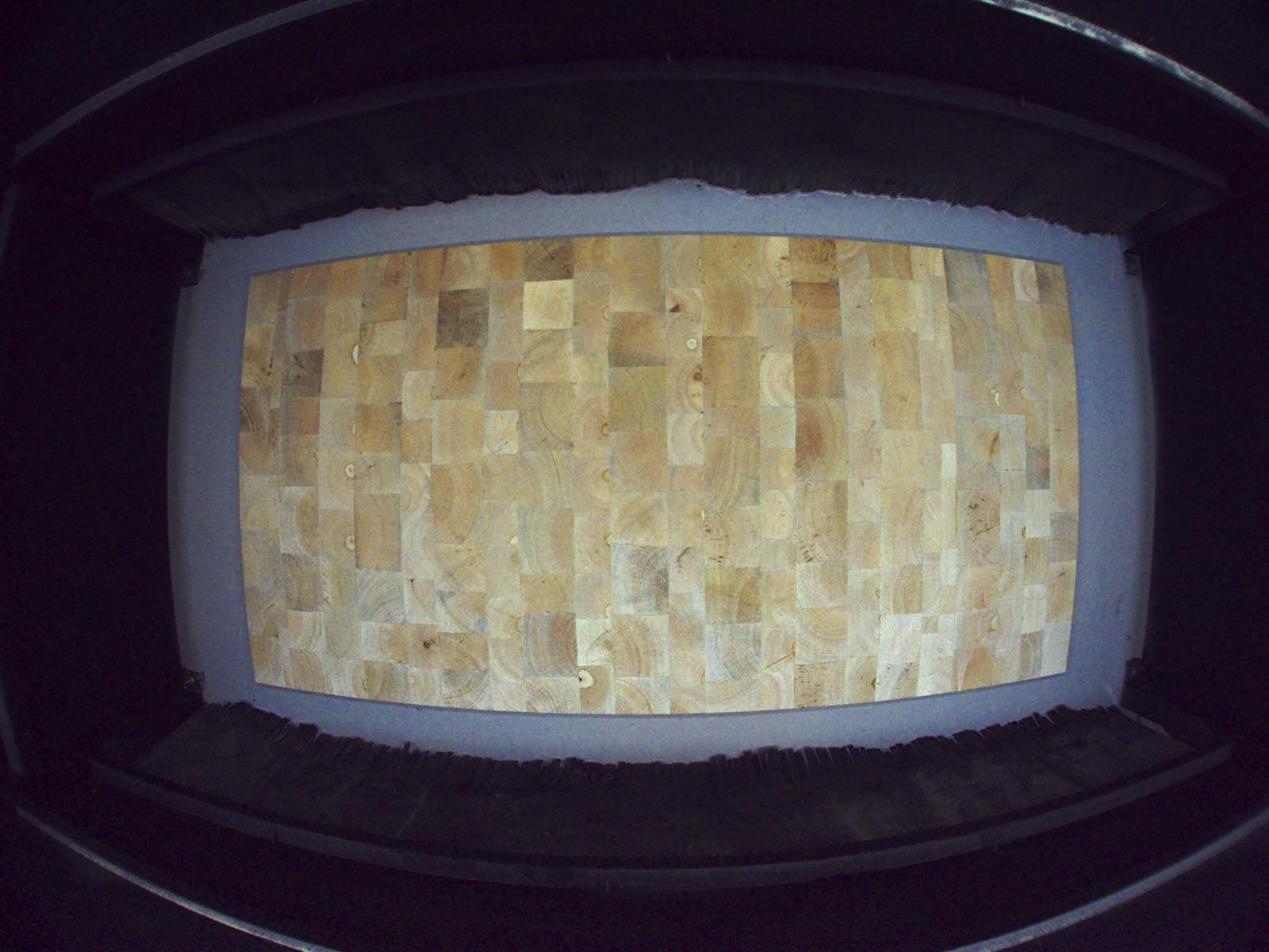nudillo: (422, 639, 435, 651)
